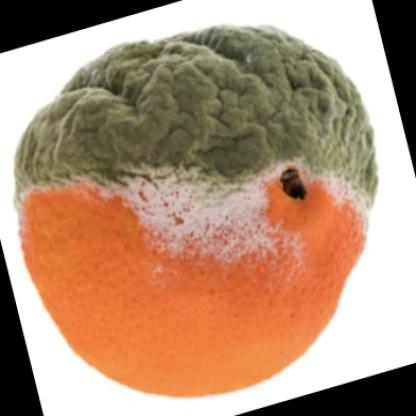rotten: (22, 24, 367, 399)
